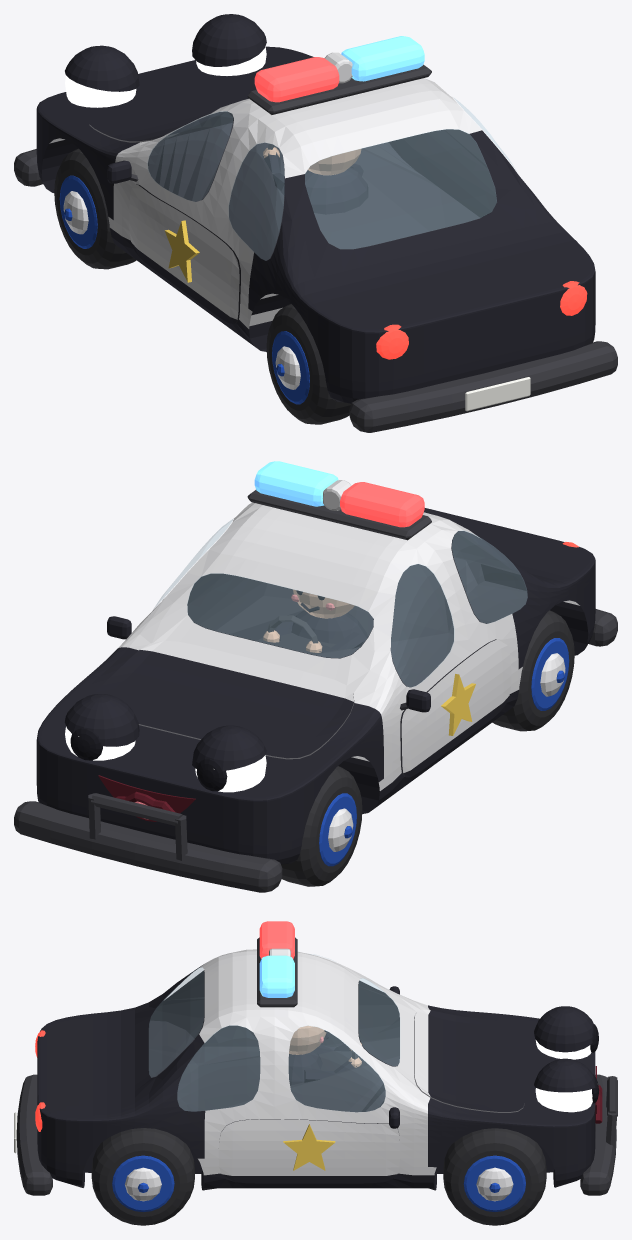
The model's file is car_siren.glb.
3 views of the same model, one above another, from view 1: azimuth 30°, elevation 25°; view 2: azimuth 150°, elevation 25°; view 3: azimuth 270°, elevation 25° (orthographic). The views are drawn at different scales.
Visible parts, largest first — view 1: body, cabin, glass_r, glass_l, bumper_r, door_l, extra_lightbar, face_lids, hood, wheel_rl, wheel_fl, driver (+6 smaller); view 2: body, hood, cabin, bumper_f, glass_l, glass_f, extra_lightbar, door_l, face_lids, wheel_fl, wheel_rl, driver (+6 smaller); view 3: body, cabin, glass_r_side, door_r, hood, wheel_rr, wheel_fr, face_lids, glass_r, extra_lightbar, glass_f, bumper_f (+5 smaller).
Boxes of the visible parts, <box> form: body: <box>36,46,595,403</box>; cabin: <box>148,111,496,260</box>; glass_r: <box>305,129,496,248</box>; glass_l: <box>147,111,284,260</box>; bumper_r: <box>349,341,617,432</box>; door_l: <box>129,184,239,323</box>; extra_lightbar: <box>247,36,431,114</box>; face_lids: <box>65,14,266,91</box>; hood: <box>89,75,256,141</box>; wheel_rl: <box>266,304,350,424</box>; wheel_fl: <box>54,148,136,269</box>; driver: <box>263,143,368,214</box>; body: <box>36,502,595,864</box>; hood: <box>93,640,353,758</box>; cabin: <box>187,531,527,687</box>; bumper_f: <box>14,793,282,892</box>; glass_l: <box>391,530,527,686</box>; glass_f: <box>187,573,373,657</box>; extra_lightbar: <box>247,461,431,540</box>; door_l: <box>401,639,511,777</box>; face_lids: <box>64,694,266,770</box>; wheel_fl: <box>281,766,362,886</box>; wheel_rl: <box>492,610,574,731</box>; driver: <box>263,589,367,652</box>; body: <box>37,949,595,1190</box>; cabin: <box>149,970,399,1112</box>; glass_r_side: <box>177,1025,385,1111</box>; door_r: <box>218,1119,399,1183</box>; hood: <box>414,1009,525,1111</box>; wheel_rr: <box>91,1128,194,1225</box>; wheel_fr: <box>443,1128,546,1225</box>; face_lids: <box>534,1006,594,1092</box>; glass_r: <box>149,967,203,1077</box>; extra_lightbar: <box>257,921,297,1007</box>; glass_f: <box>359,978,399,1065</box>; bumper_f: <box>580,1074,617,1195</box>.
Bounding box in the file's own units: 2.26 × 1.85 × 4.44.
